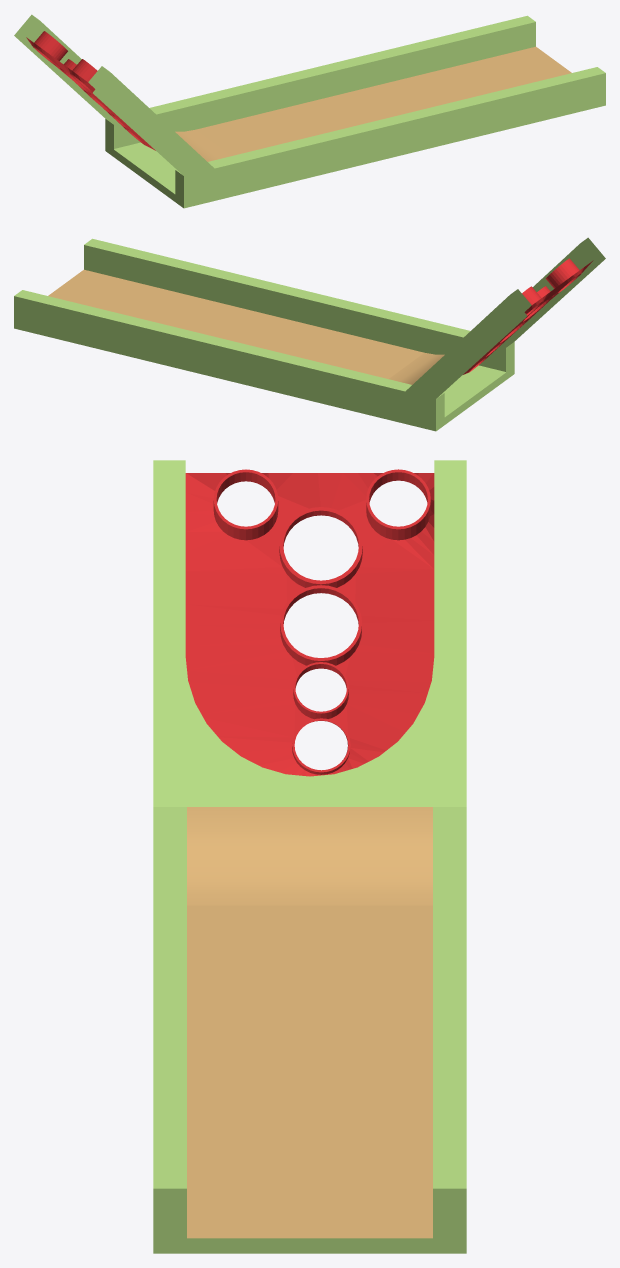
Rendered from Skee_Ball_Machine_New.fbx.
3 renders of one model, top to bottom at view 1: azimuth 30°, elevation 25°; view 2: azimuth 150°, elevation 25°; view 3: azimuth 270°, elevation 25°, orthographic. The views are drawn at different scales.
Visible parts, largest first — view 1: Base; view 2: Base; view 3: Base.
Boxes of the visible parts, box(x1,y1,x2,y2) form: Base: box(14, 14, 605, 208); Base: box(14, 237, 605, 431); Base: box(153, 460, 466, 1253).
Bounding box in the file's own units: 5295 × 1524 × 1400.
